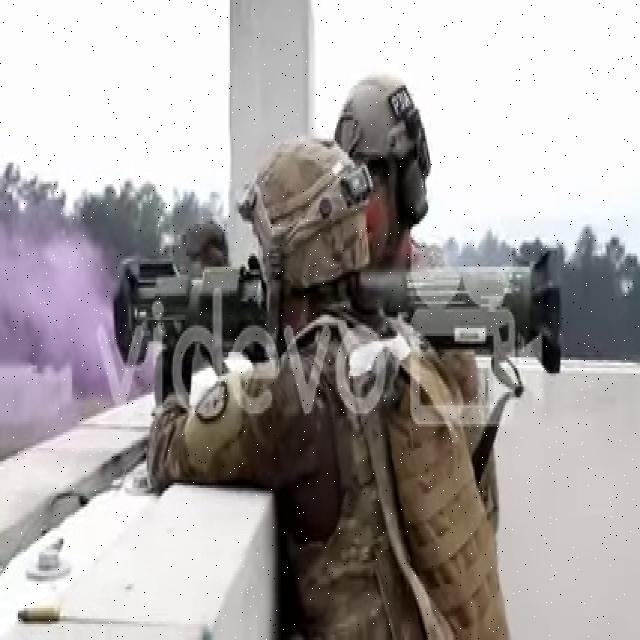bazooka: (109, 250, 571, 383)
